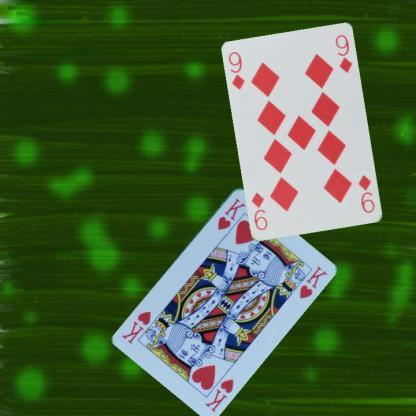9d: (356, 172, 376, 214), (226, 49, 246, 91)
Kh: (202, 376, 235, 414), (214, 195, 248, 231)
